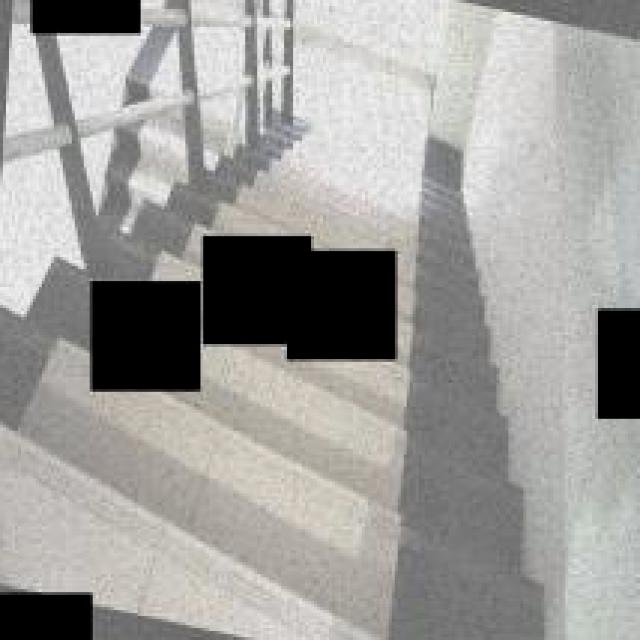downstair: (213, 360, 596, 640)
